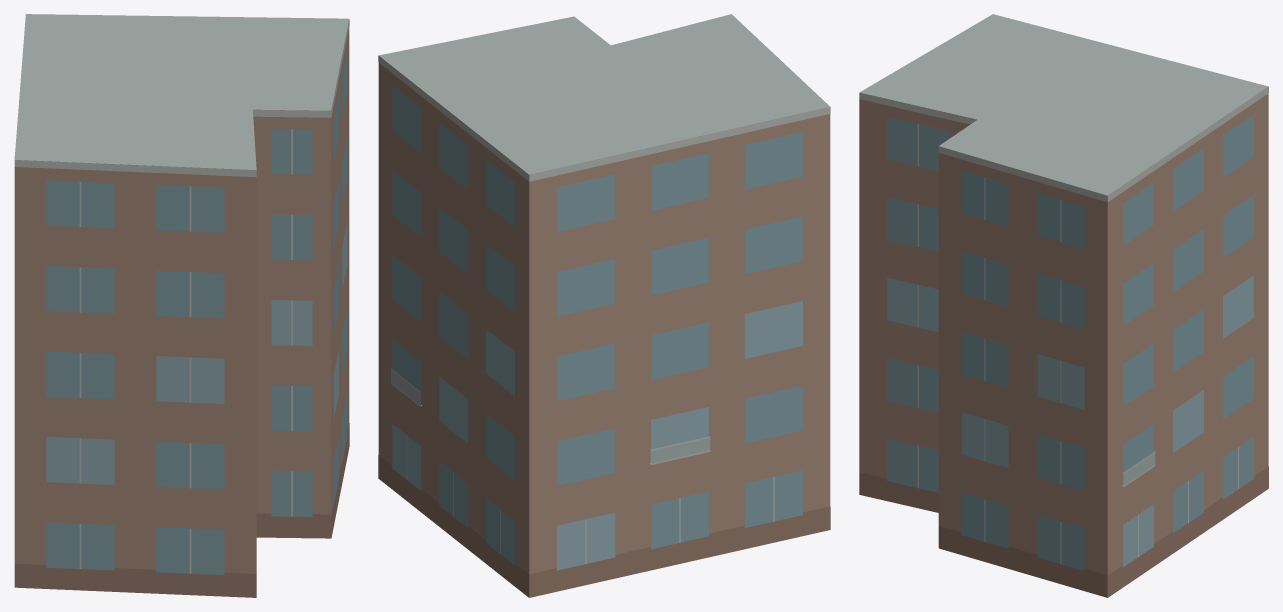
File: survey-upis-32488078.glb
The picture shows the model from 3 angles, left to right: view 1: azimuth 30°, elevation 25°; view 2: azimuth 150°, elevation 25°; view 3: azimuth 270°, elevation 25°; orthographic projection. The views are drawn at different scales.
Visible parts, largest first — view 1: survey-upis-32488078.tmp; view 2: survey-upis-32488078.tmp; view 3: survey-upis-32488078.tmp.
Boxes of the visible parts, x1=… form: survey-upis-32488078.tmp: x1=14, y1=14, x2=349, y2=597; survey-upis-32488078.tmp: x1=378, y1=14, x2=830, y2=597; survey-upis-32488078.tmp: x1=859, y1=14, x2=1268, y2=597.
Bounding box in the file's own units: 14.4 × 14.85 × 13.71.
